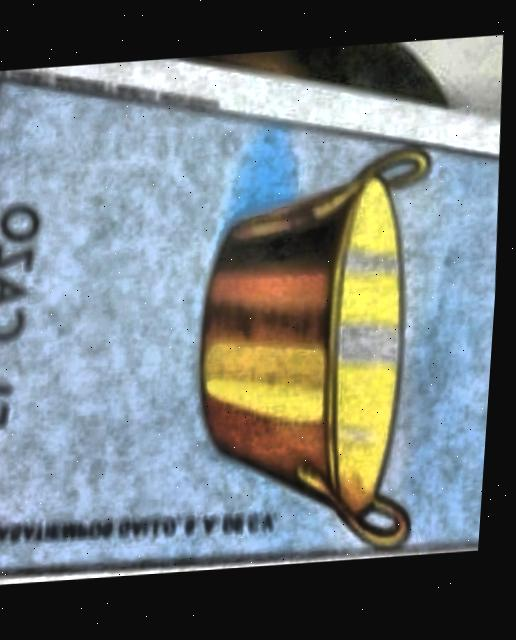El Cazo: (0, 75, 502, 571)
